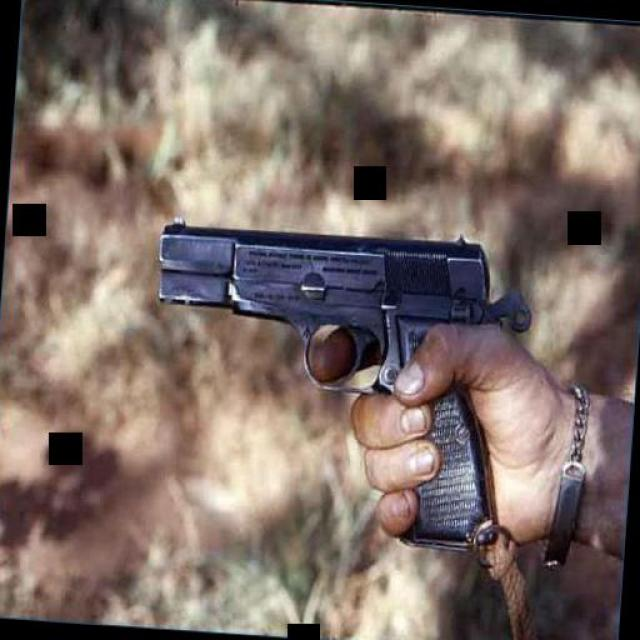gun: (136, 210, 532, 559)
